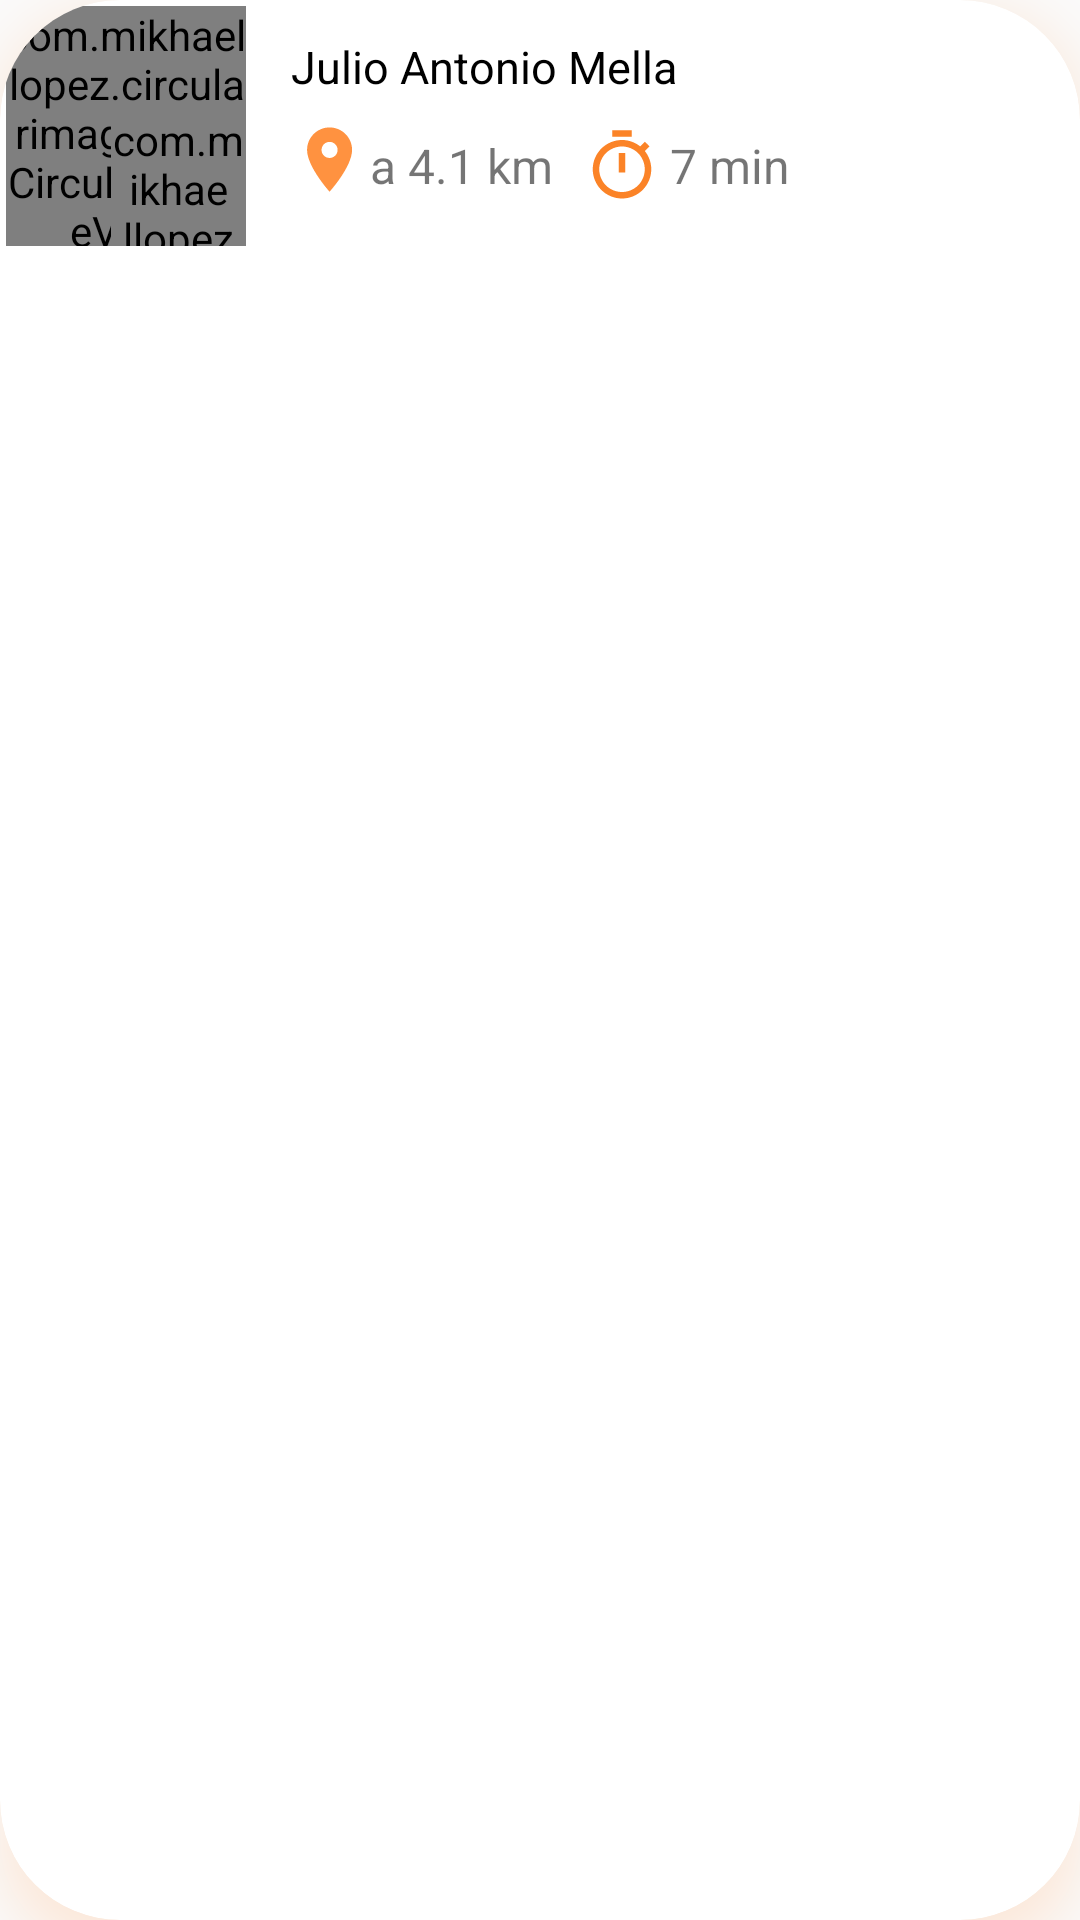

Where icons sit on this 1080px×1920px app screen, as (x1, y1, x2, y2):
location on: (307, 127, 352, 192)
timer: (592, 130, 652, 199)
